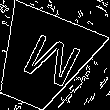M_SW: (7, 28, 77, 93)
